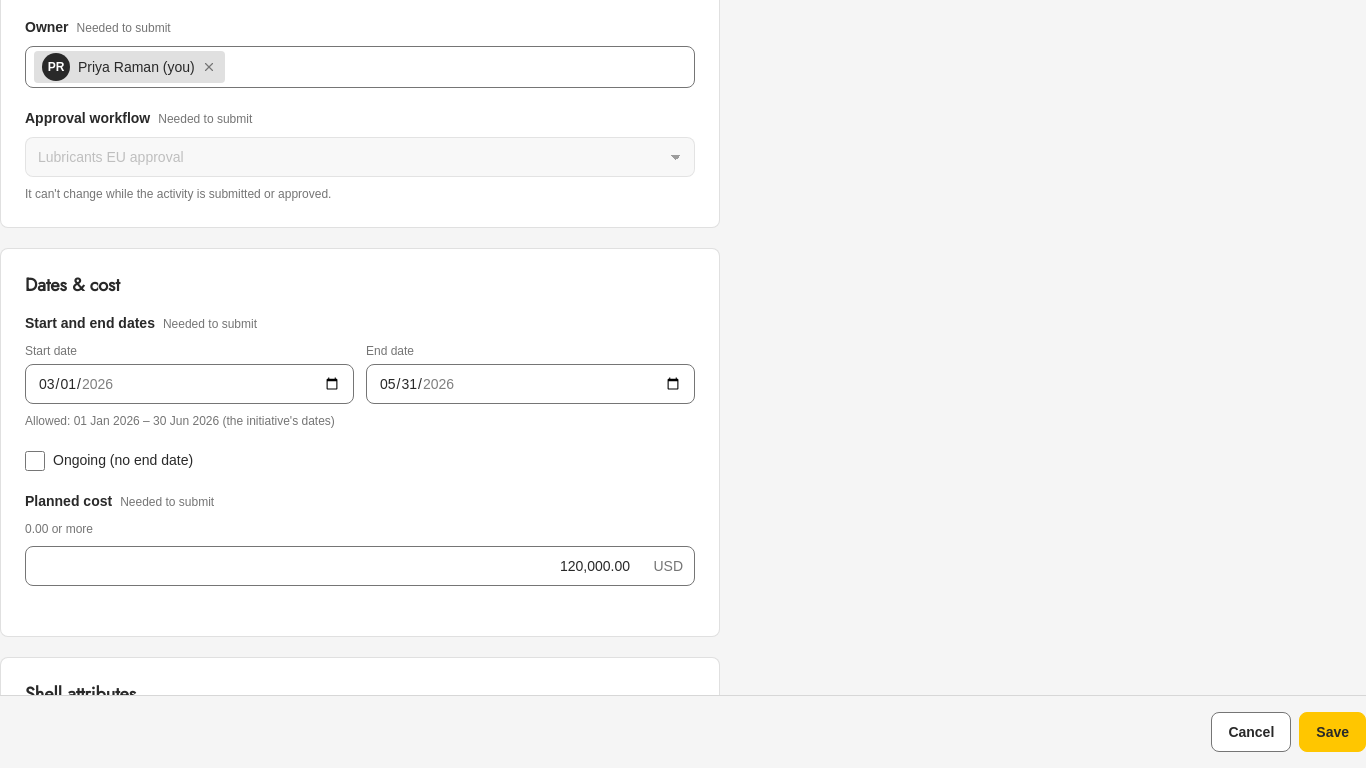
Test: ActivityFormPage, edit (feature 006, US4) › says in the re-approval question what new dates do to the line-item spreads (007 FR-022, D-150)
(page scrolled)
Step 1. Type "2026-06-30" into the date field labelled "End date" → coordinates (530, 384), box [366, 364, 695, 404]
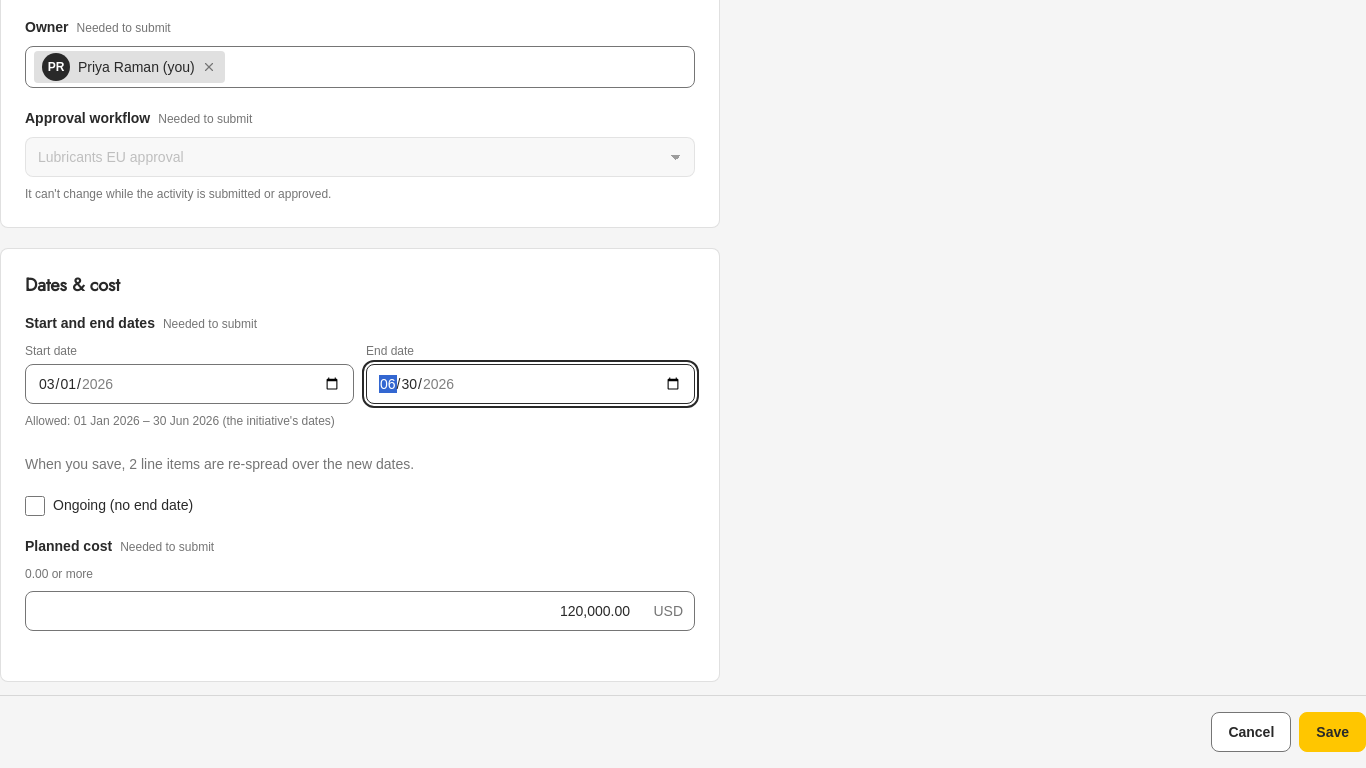
Now the text "When you save, 2 line items are re-spread over the new dates." is shown, box [25, 456, 414, 472]
Step 2. Click the button "Save" → coordinates (1333, 732), box [1299, 712, 1365, 752]
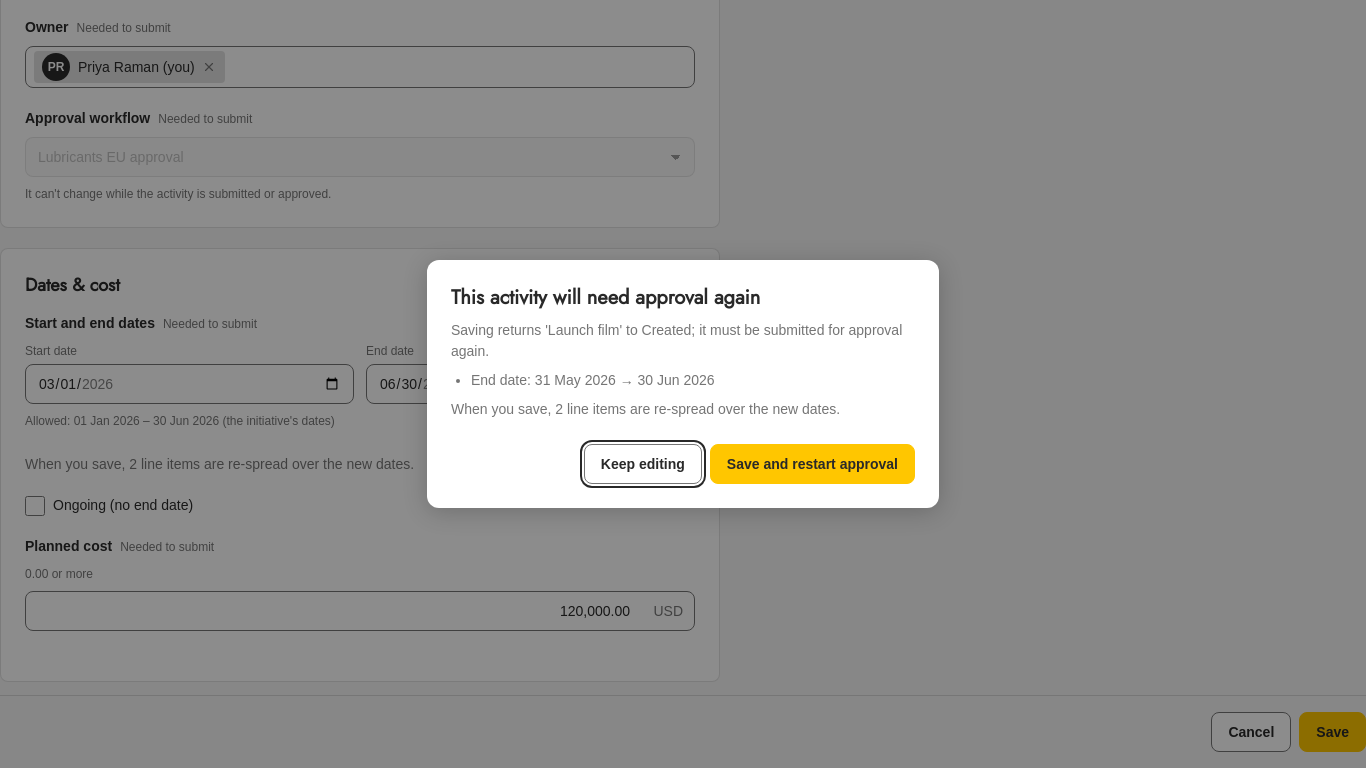
Now the dialog "This activity will need approval again" shows "When you save, 2 line items are re-spread over the new dates.", box [451, 401, 840, 417]
